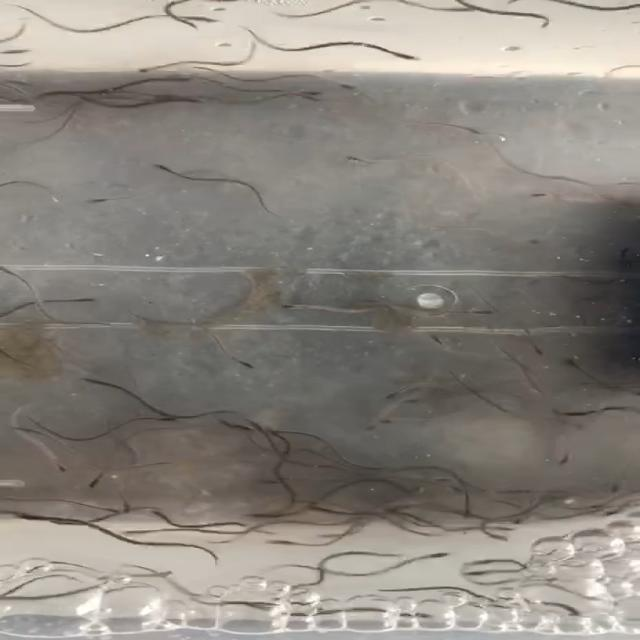active_glass_eel: (251, 290, 323, 322), (332, 151, 408, 174), (222, 349, 284, 377), (380, 605, 437, 631), (406, 330, 464, 355), (51, 190, 123, 208), (522, 454, 590, 473), (447, 301, 510, 320), (546, 600, 602, 621), (149, 92, 222, 108), (59, 292, 112, 314), (370, 46, 428, 66), (528, 339, 572, 364), (461, 529, 515, 549), (294, 84, 335, 110), (309, 498, 351, 522), (18, 88, 94, 101), (136, 159, 190, 177), (183, 8, 225, 30), (126, 410, 183, 426), (446, 121, 496, 139), (540, 404, 590, 422), (13, 508, 53, 530), (123, 61, 185, 75), (71, 373, 111, 394), (38, 461, 77, 482), (227, 509, 275, 526), (259, 534, 299, 552), (140, 569, 184, 585), (209, 421, 251, 437), (371, 386, 408, 404), (395, 507, 429, 526), (378, 410, 407, 432), (409, 550, 449, 565), (552, 356, 587, 373), (237, 417, 272, 434), (108, 500, 143, 517), (86, 504, 140, 515), (358, 421, 394, 437), (79, 475, 103, 497), (459, 566, 496, 580), (465, 556, 501, 570), (457, 508, 483, 522), (146, 510, 167, 521)
